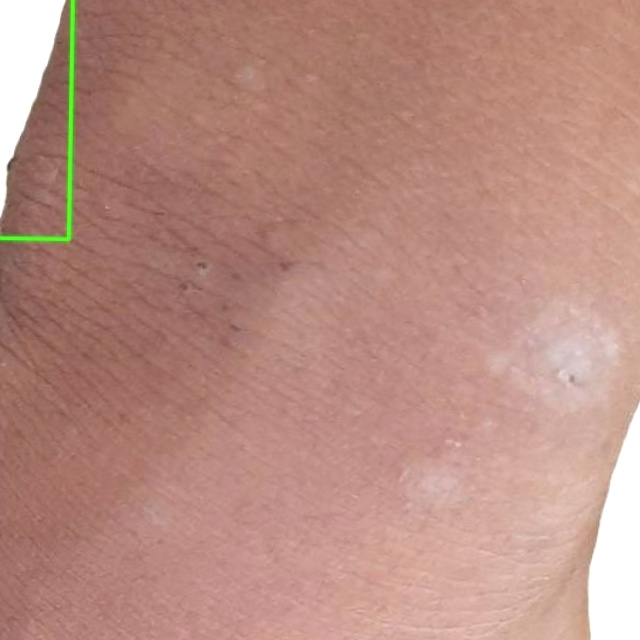Scabies: (0, 0, 73, 239)
